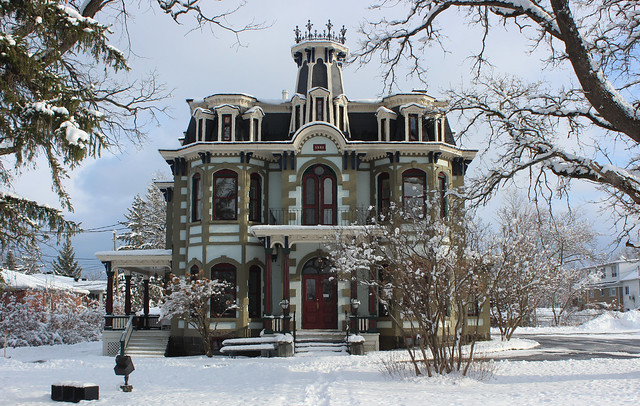medium: (99, 35, 504, 360)
